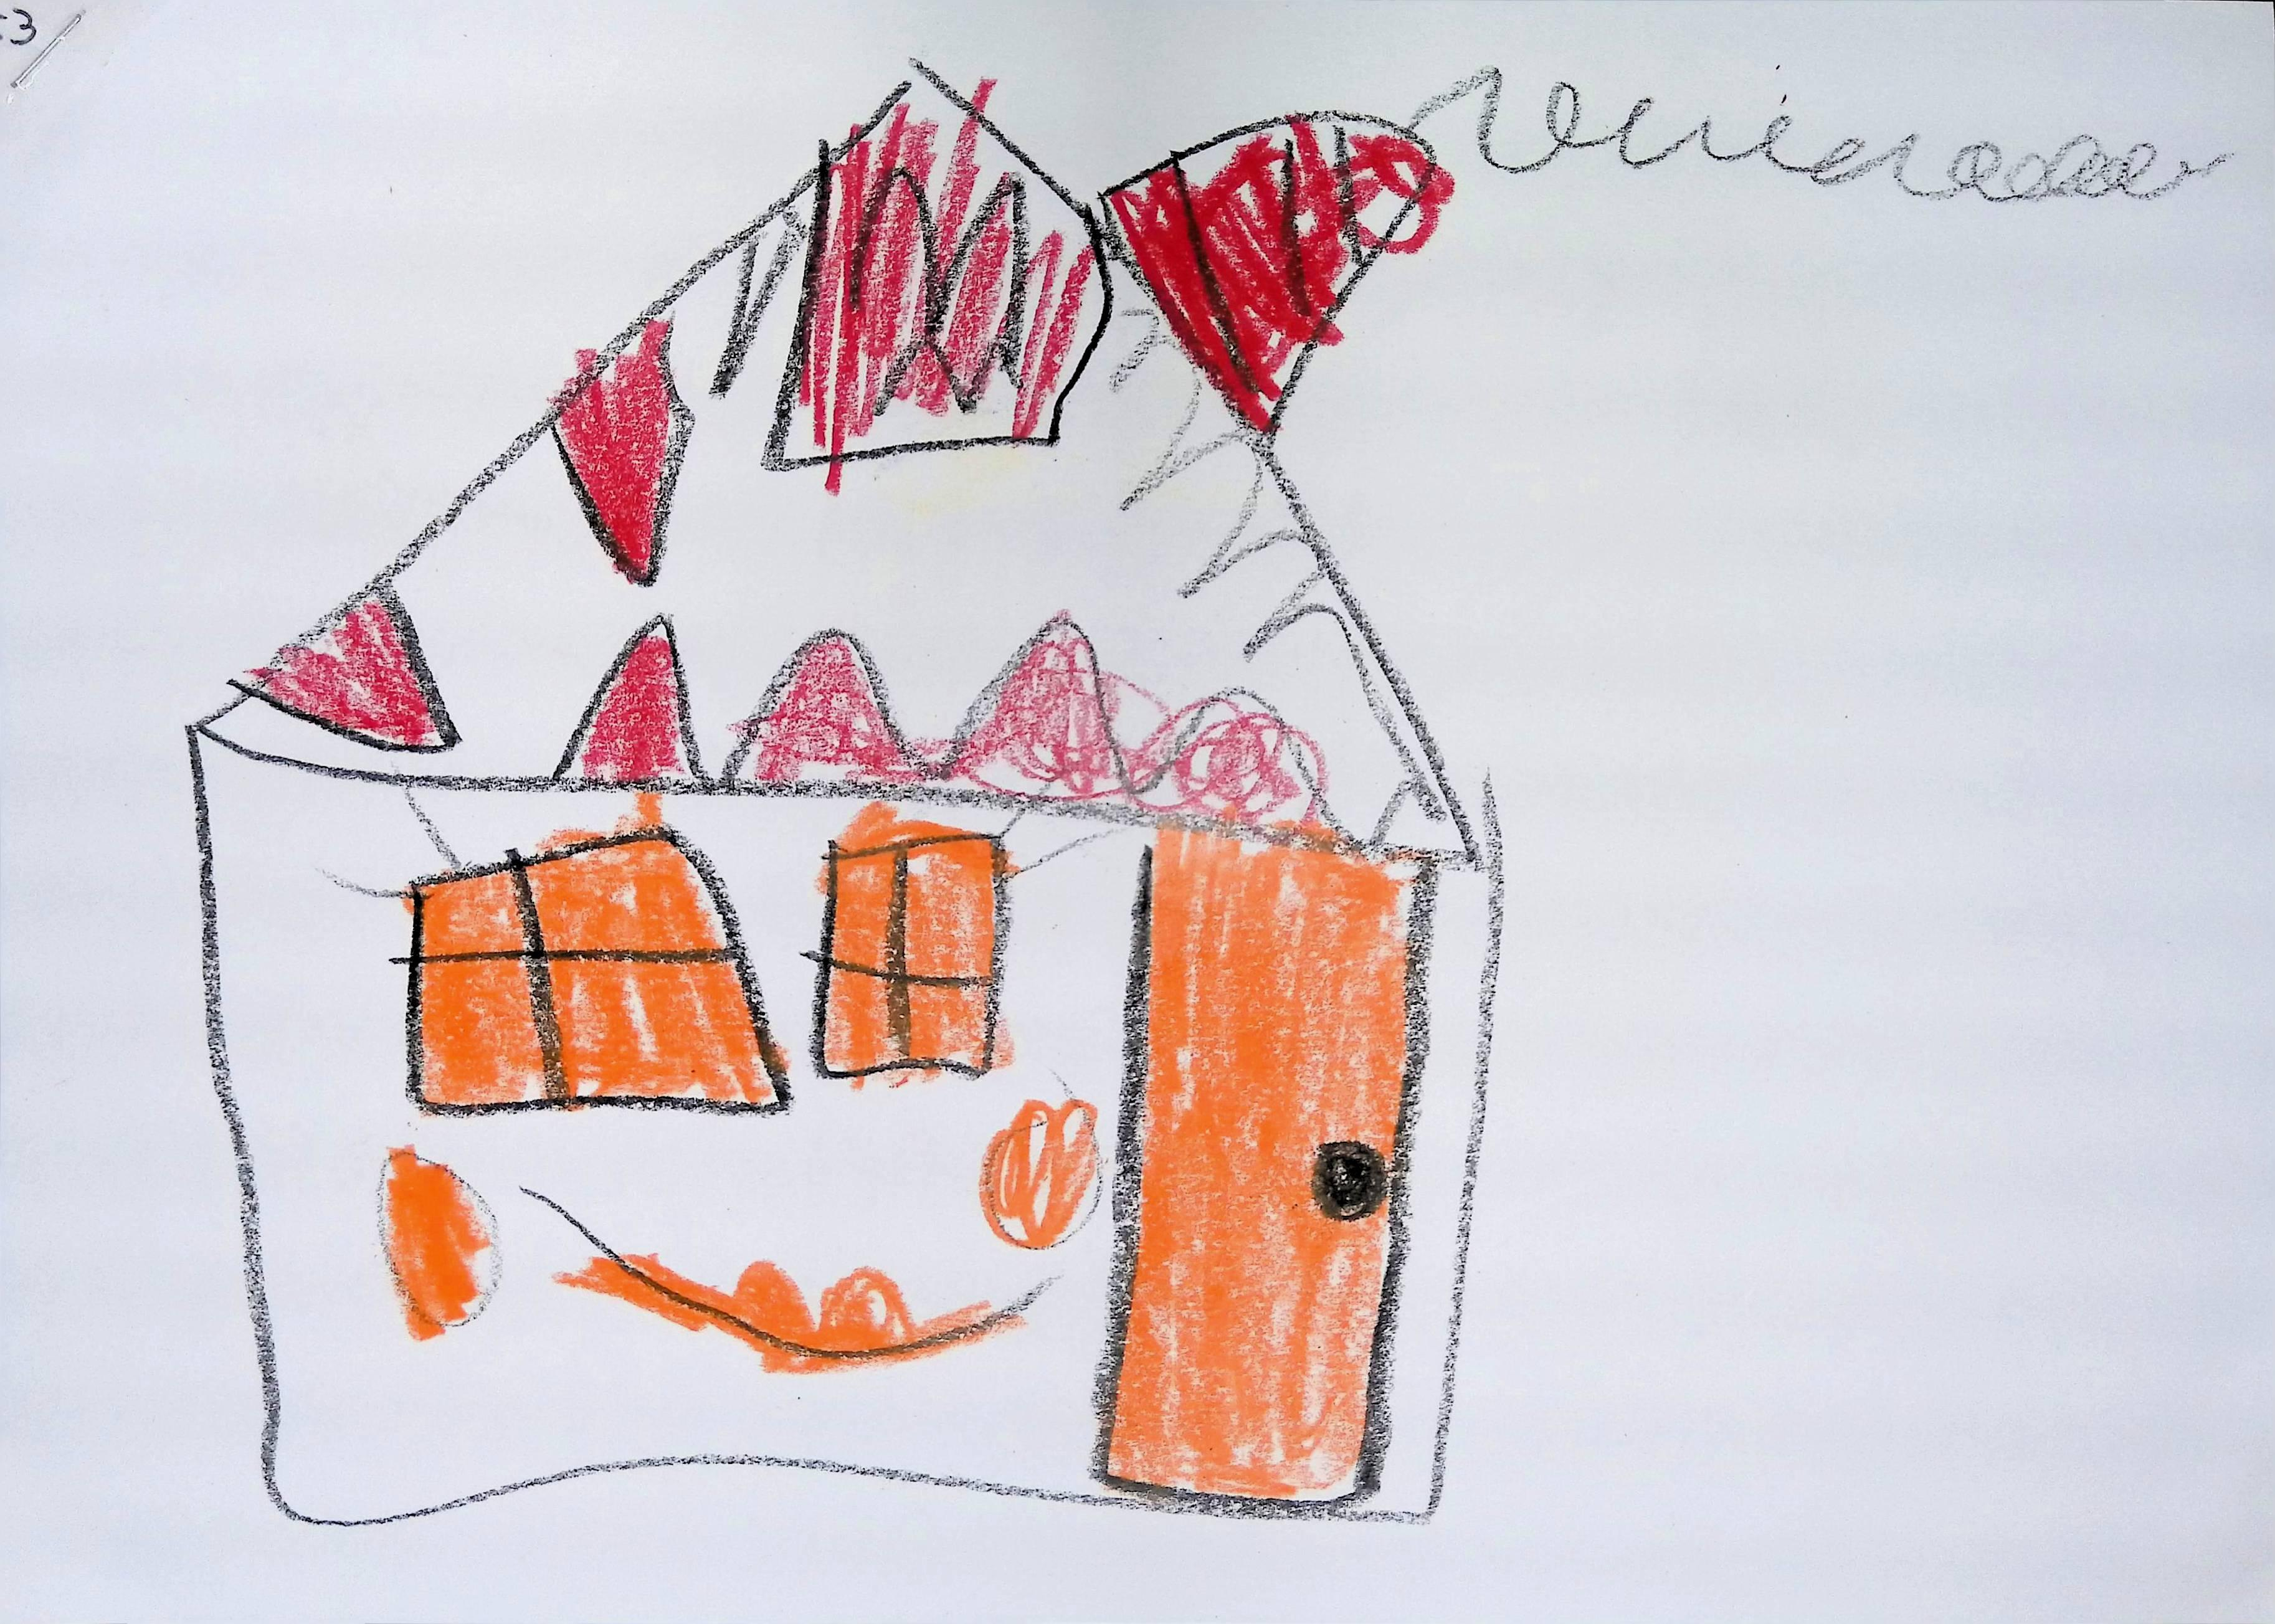chimney: (1103, 111, 1430, 432)
door: (1105, 828, 1418, 1499)
house: (184, 58, 1502, 1529)
roof: (181, 56, 1504, 870)
wall: (193, 743, 1509, 1534)
window: (404, 826, 787, 1111), (813, 835, 1012, 1079)
